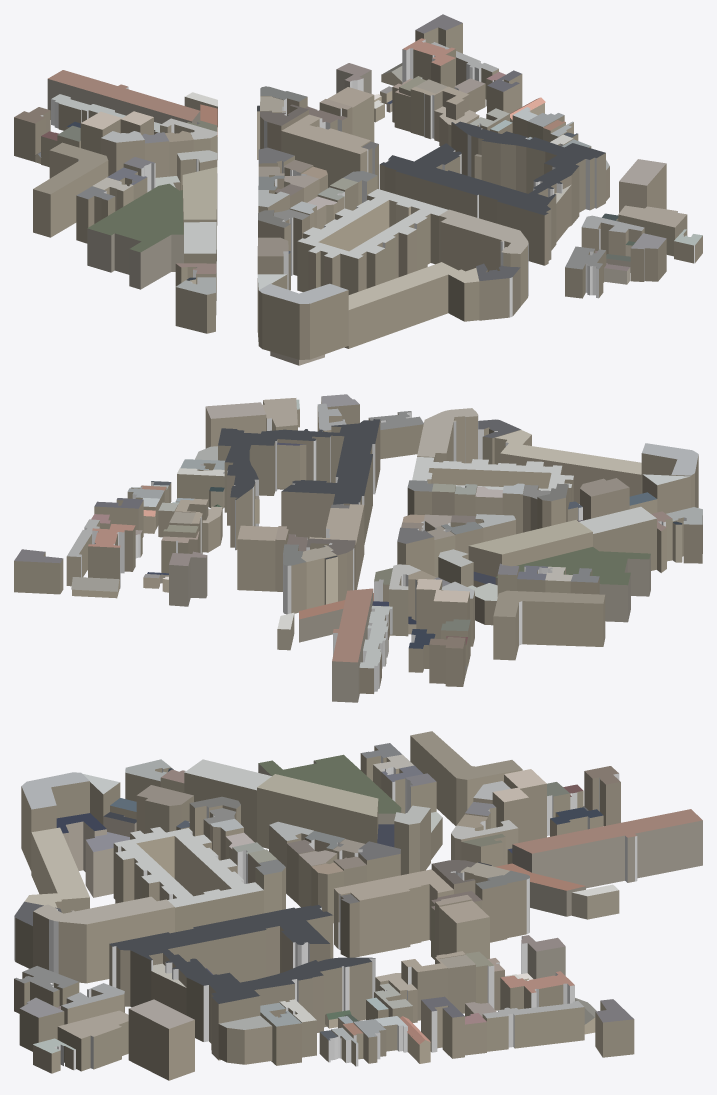
3 renders of one model, top to bottom at view 1: azimuth 30°, elevation 25°; view 2: azimuth 150°, elevation 25°; view 3: azimuth 270°, elevation 25°, orthographic. The views are drawn at different scales.
Parts seen in each view (by area): view 1: tuile; view 2: tuile; view 3: tuile.
Boxes of the visible parts, left/top/right/bottom form: tuile: left=14, top=14, right=702, bottom=365; tuile: left=14, top=394, right=702, bottom=702; tuile: left=14, top=731, right=702, bottom=1080.
Bounding box in the file's own units: 286 × 46.96 × 295.
